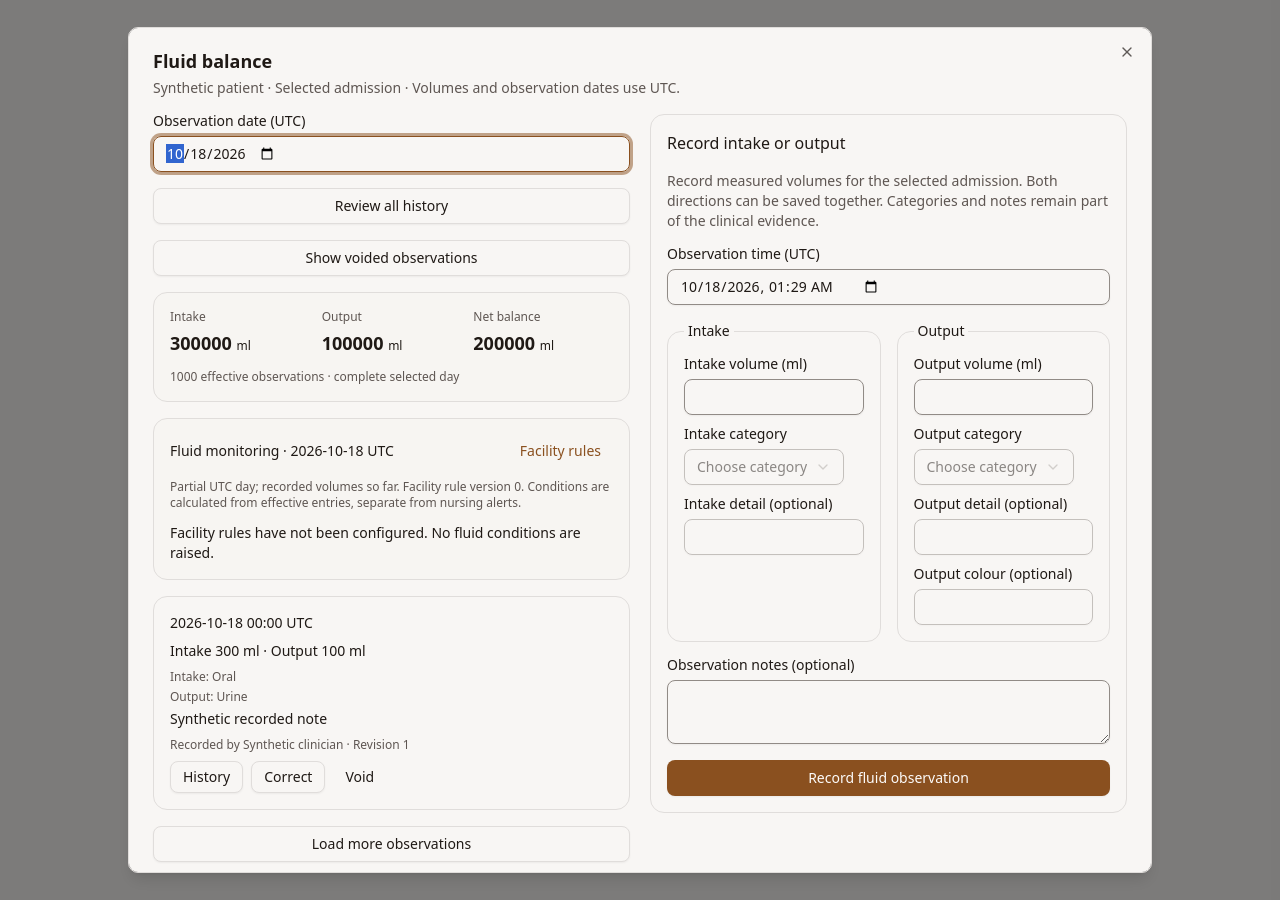
Test: Chronicle immutable fluid workflow using real generated client › surfaces later-page and aggregate failures without pretending the partial list is complete or missing values are zero
Click the button "Load more observations": [392, 844] box x1=153 y1=826 x2=630 y2=862
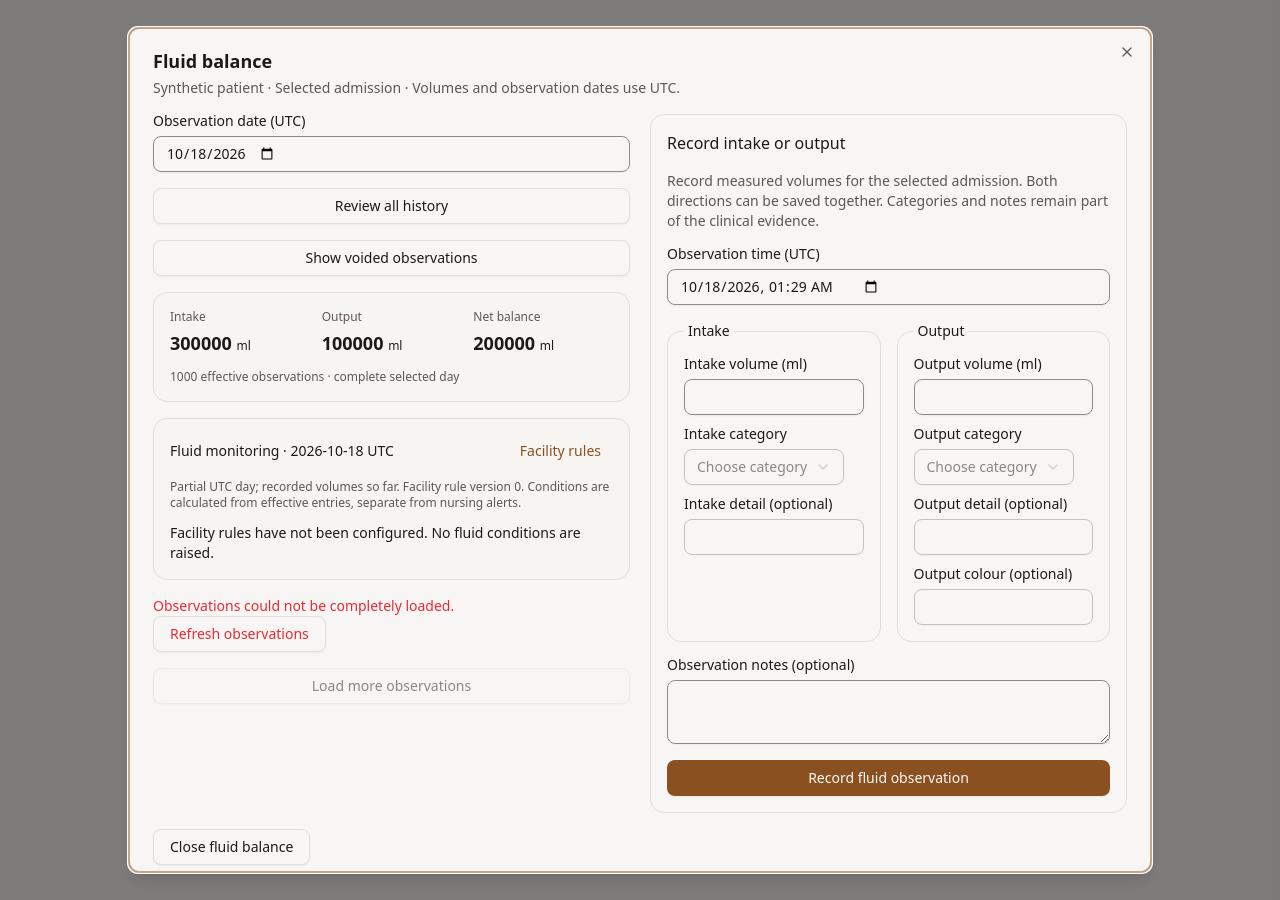
Expected: the element named "Complete fluid totals" shows "1000 effective", x1=153 y1=292 x2=630 y2=402
Expected: the text "Observations could not be completely loaded. Refresh observations" is shown, x1=153 y1=596 x2=454 y2=652
